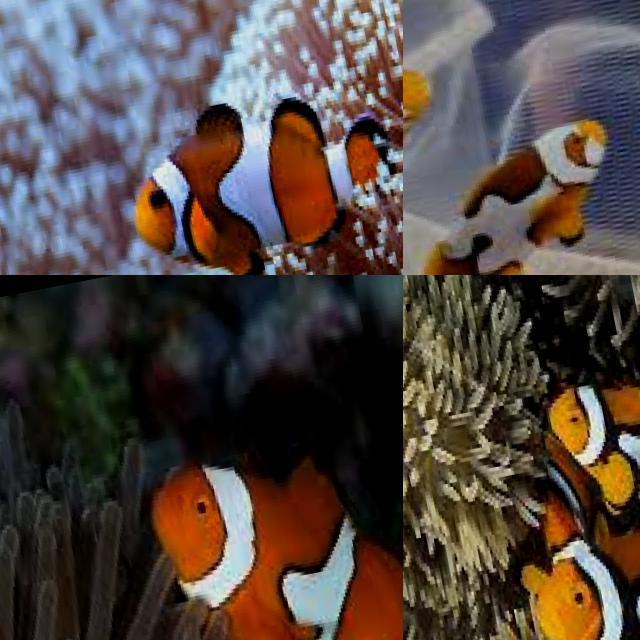Amphiprion-percula: (102, 46, 403, 275), (145, 377, 403, 640), (403, 78, 640, 275), (403, 16, 544, 275), (513, 321, 640, 595), (476, 467, 640, 640)
